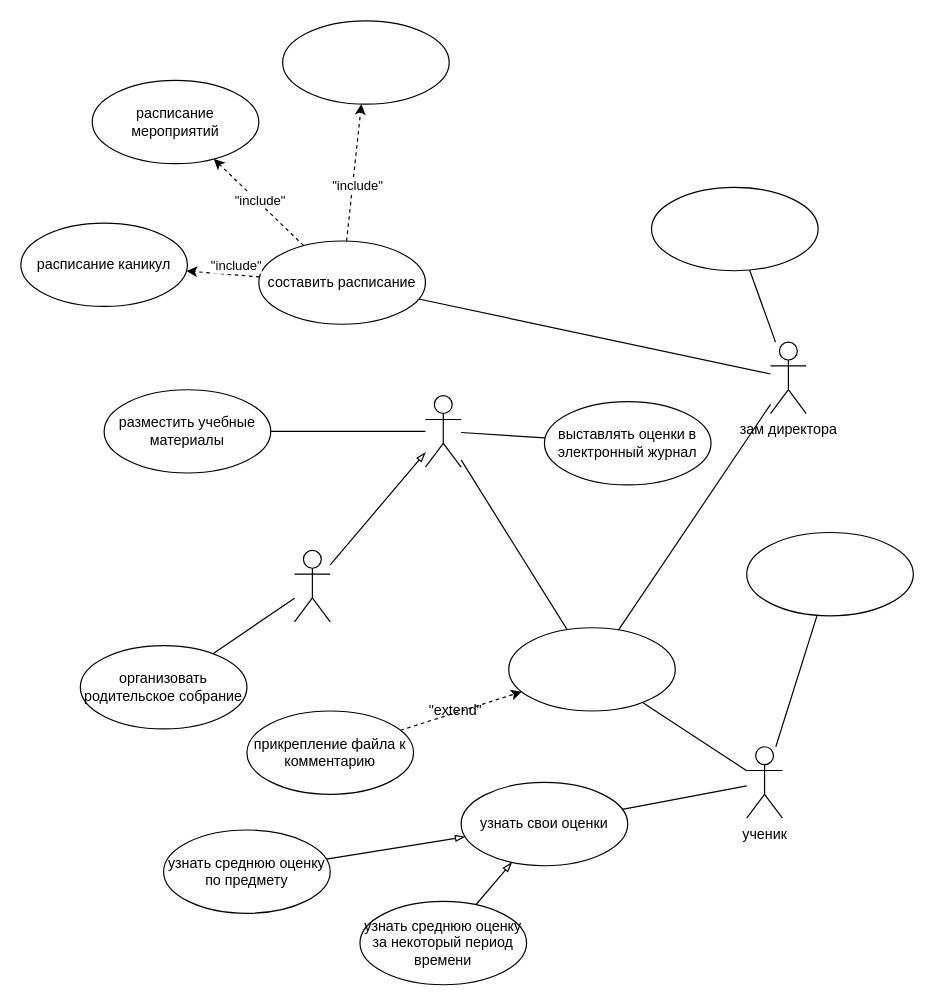
Some shapes in this 934 by 1006 pixel diagram are drawn without their labels. The shapes that lost their labels are listed below. From the top down, each one's centre as x and y in pixels, then its label:
At pixel 365 62: "расписание занятий".
At pixel 734 228: "опубликовать пост с информацией".
At pixel 442 430: "преподаватель".
At pixel 311 585: "классный руководитель".
At pixel 829 573: "узнать расписание".
At pixel 591 669: "оставлять комментарии к новостям".
